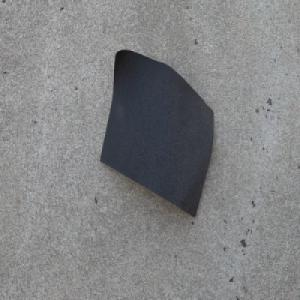PaintChip: (99, 47, 215, 219)
